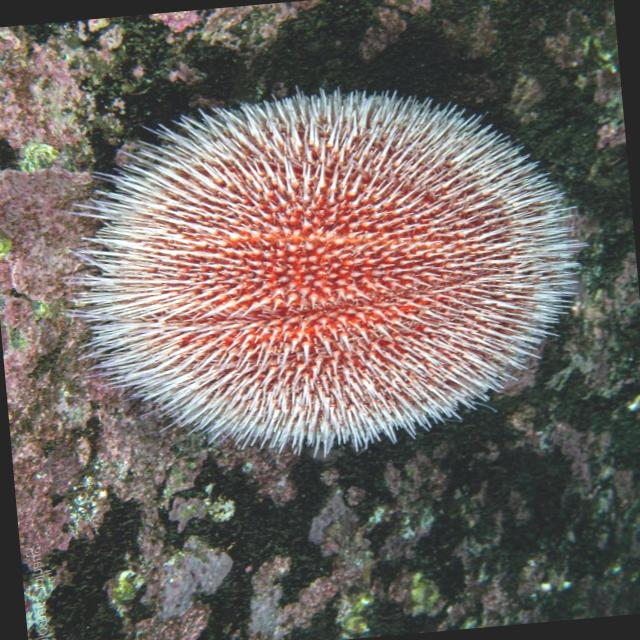Deniz Kestanesi: (41, 62, 606, 480)
